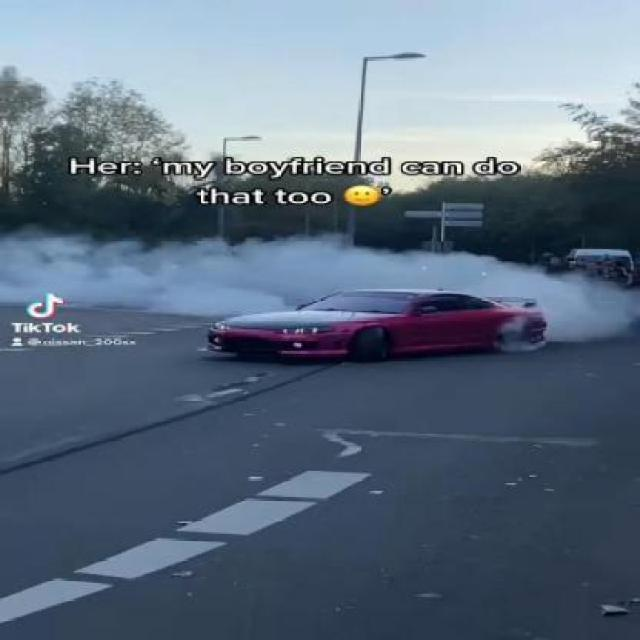car: (208, 286, 554, 366)
